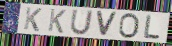K: (46, 8, 67, 35), (22, 6, 43, 33)
L: (143, 14, 161, 41)
O: (117, 12, 140, 40)
U: (69, 9, 94, 37)
V: (95, 10, 118, 38)
